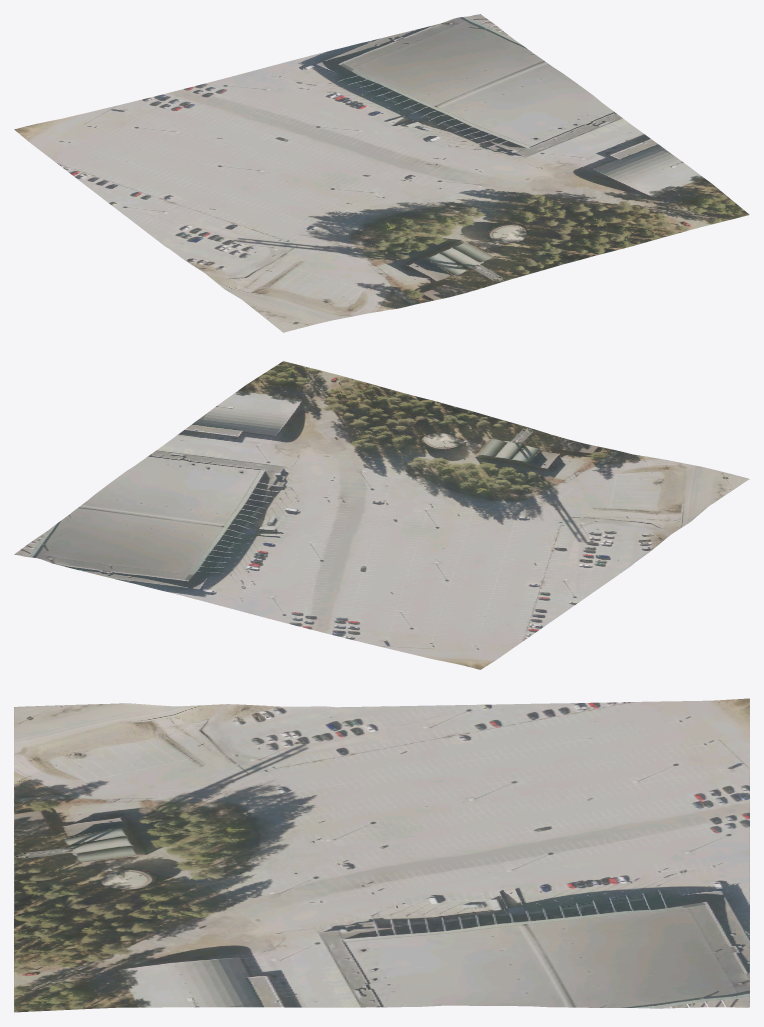
File: CM_Terrain_24490458_6820613.fbx
3 renders of one model, top to bottom at view 1: azimuth 30°, elevation 25°; view 2: azimuth 150°, elevation 25°; view 3: azimuth 270°, elevation 25°, orthographic. The views are drawn at different scales.
Visible parts, largest first — view 1: CM_Terrain_24490458_6820613_LOD0; view 2: CM_Terrain_24490458_6820613_LOD0; view 3: CM_Terrain_24490458_6820613_LOD0.
Boxes of the visible parts, left/top/right/bottom form: CM_Terrain_24490458_6820613_LOD0: left=14, top=14, right=749, bottom=332; CM_Terrain_24490458_6820613_LOD0: left=14, top=361, right=749, bottom=669; CM_Terrain_24490458_6820613_LOD0: left=14, top=698, right=749, bottom=1012.
Size of what is drawn, in the model's own units: 205 by 6.15 by 205.
